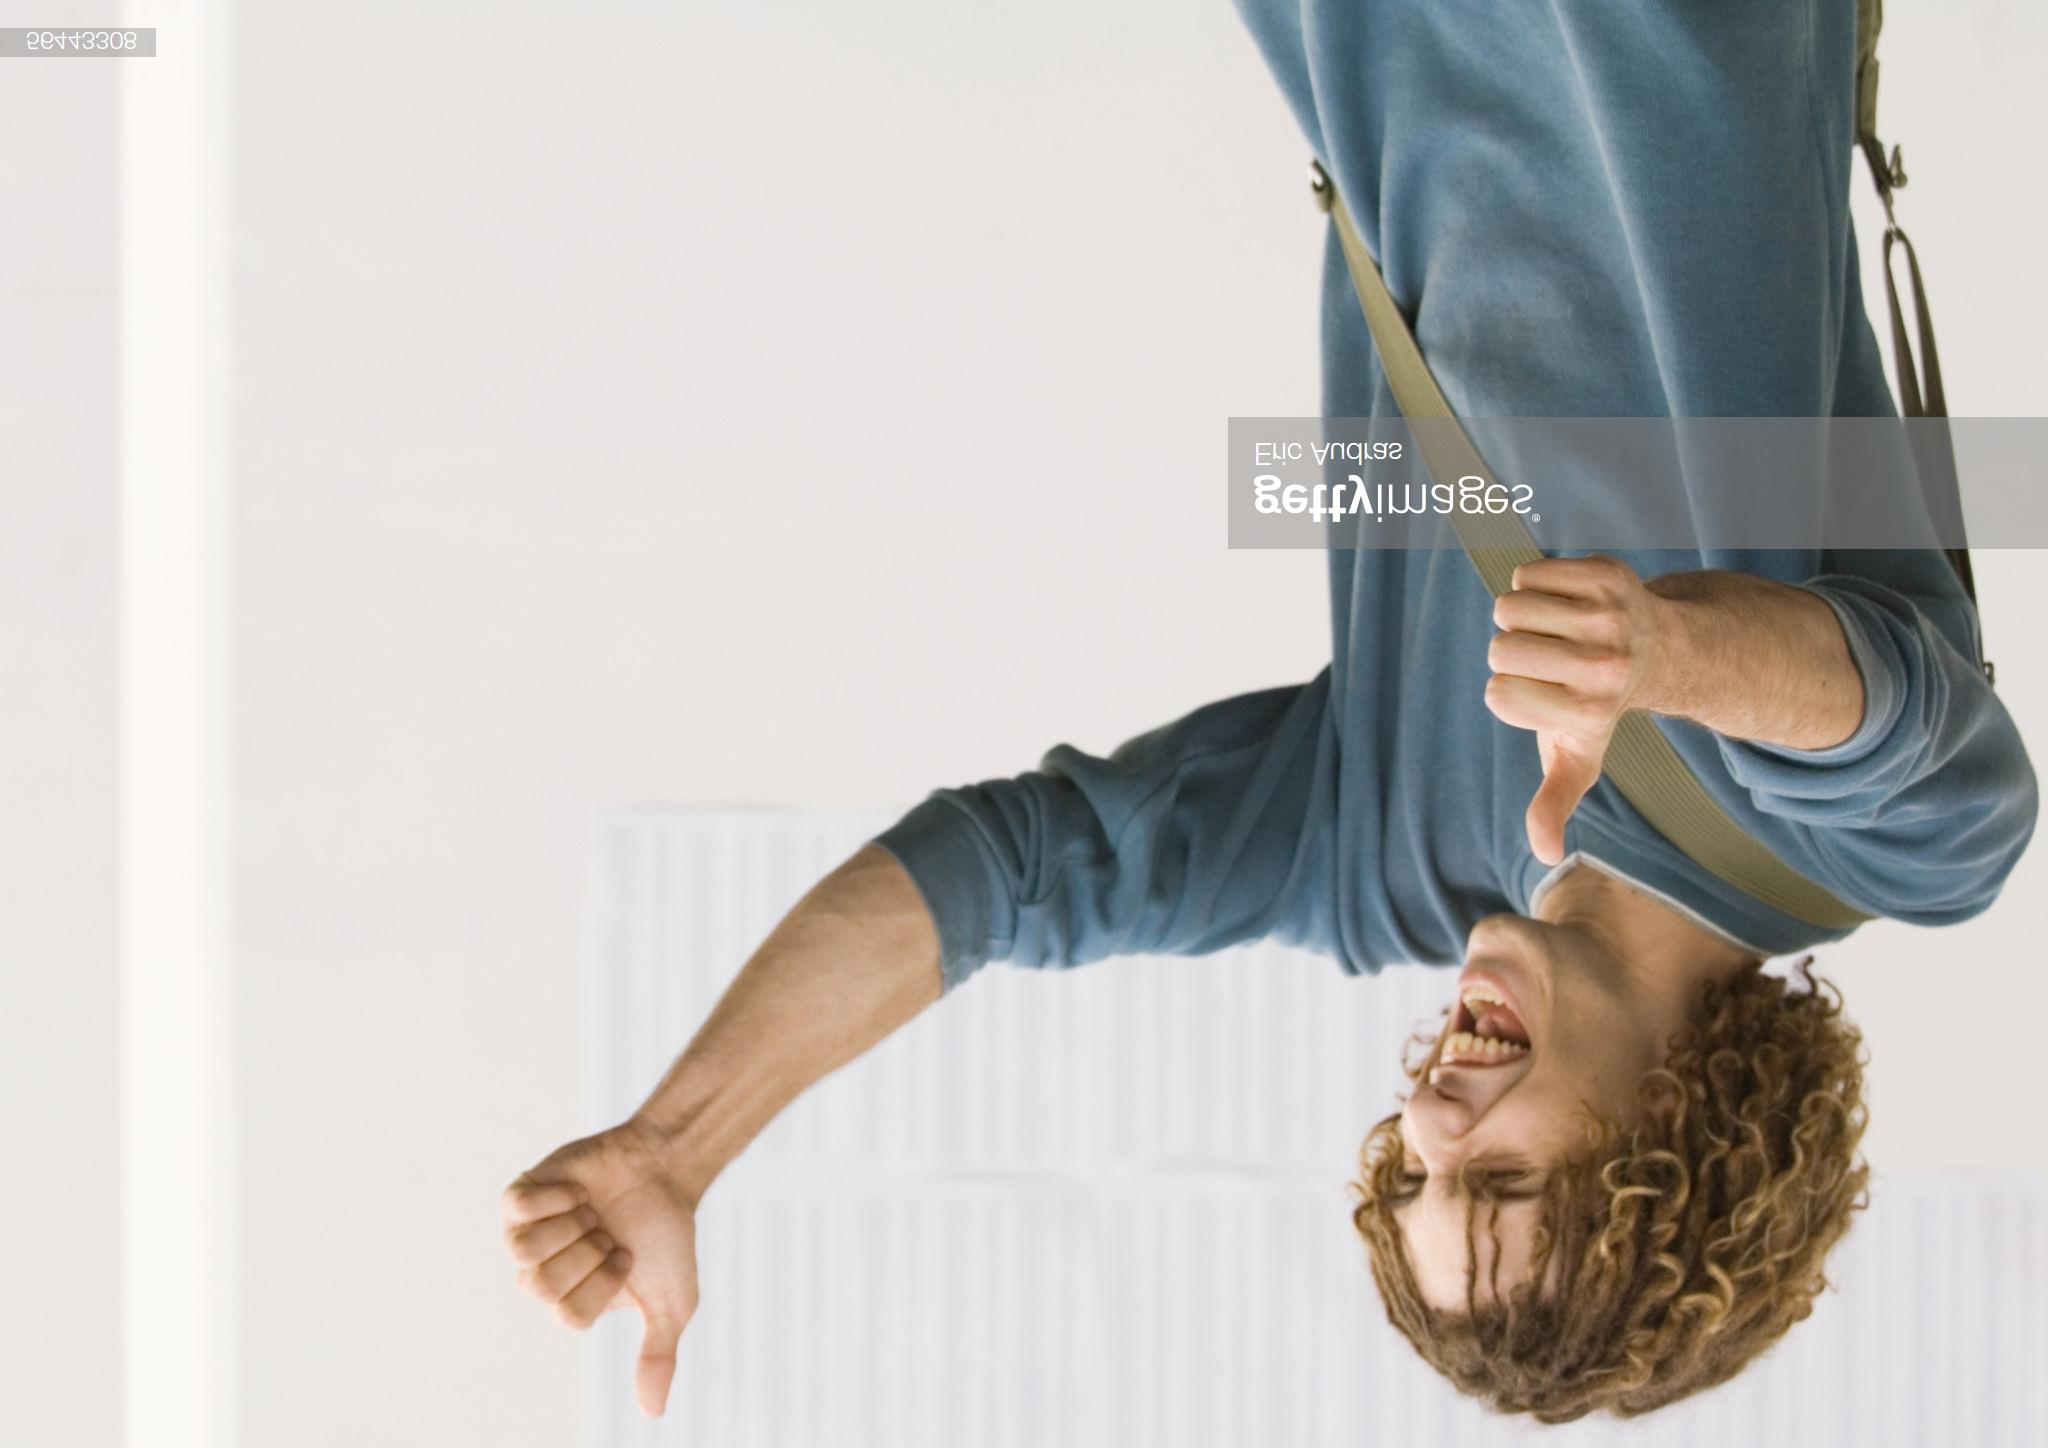thumbsdown: (1482, 555, 1637, 867), (498, 1180, 677, 1420)
